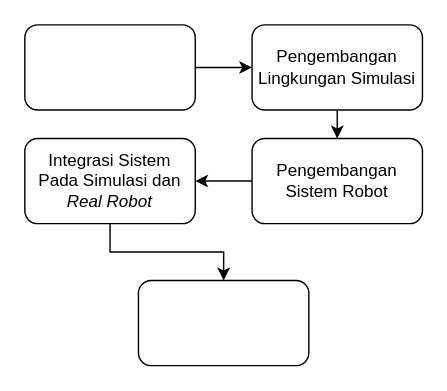
This 447x391 diagram has some shape labels left out. Each missing label, with the box of its shape:
Pengembangan Model Robot dan Pengguna: (23, 23, 195, 110)
Pengujian Sistem: (137, 279, 309, 366)
